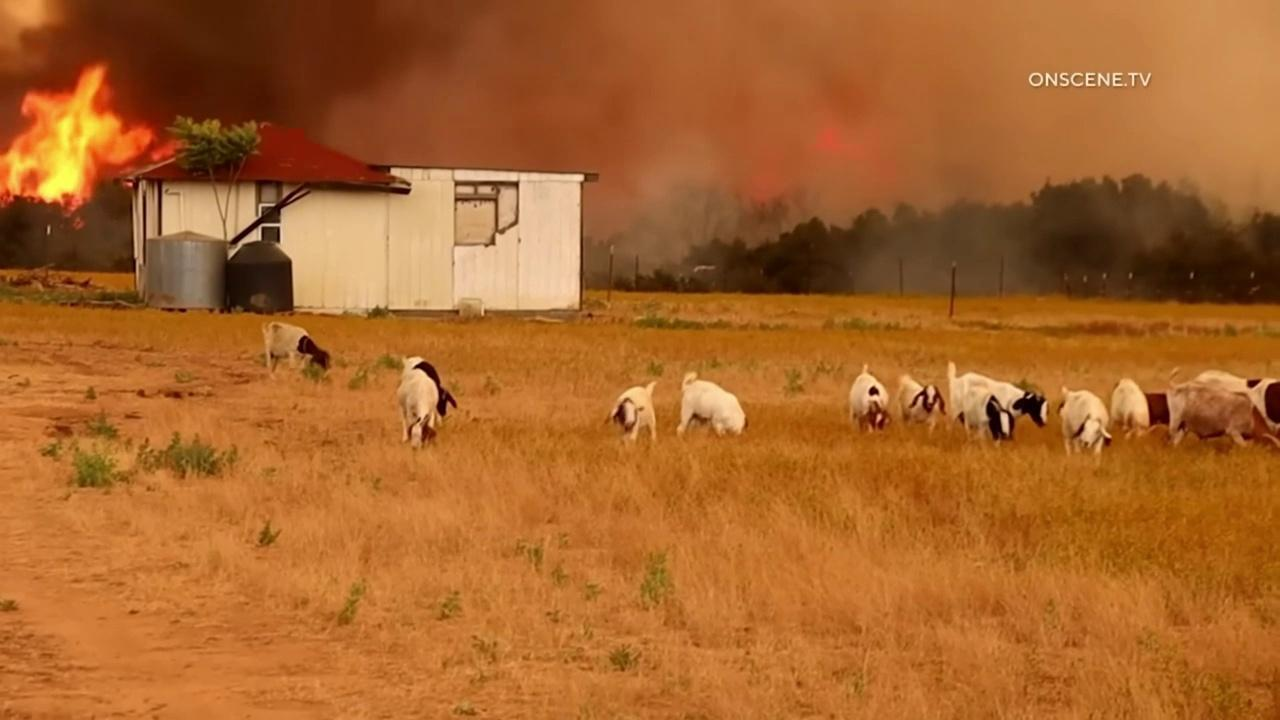fire: (0, 57, 189, 230), (806, 124, 847, 158)
smoke: (0, 0, 1280, 296)
